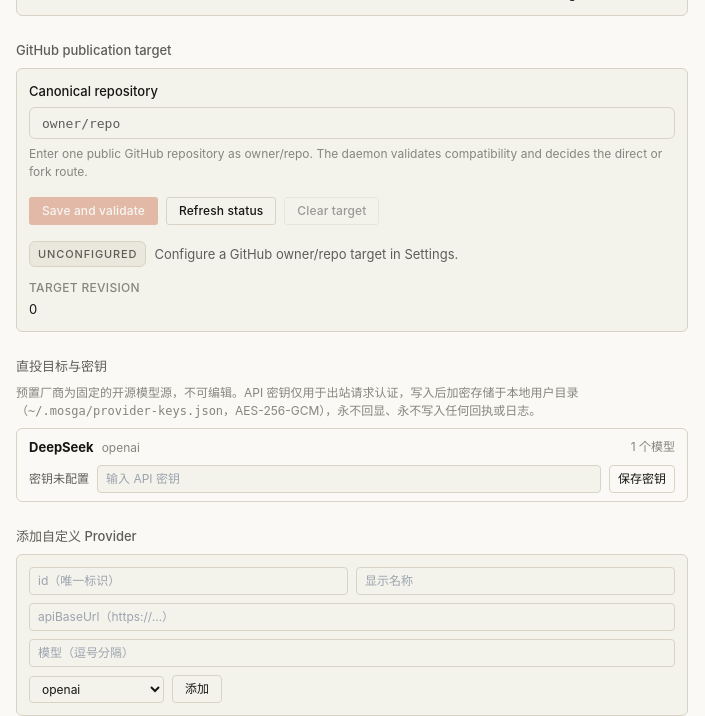
Test: SettingsPage — write-only key entry › sets a key then shows configured status only, never the key value
(page scrolled)
Expected: the text with test id "key-status-deepseek" shows "未配置", [29, 470, 89, 488]
Type "sk-FAKEfakeFAKEfake0123456789abcdef" into the password field with test id "key-input-deepseek" at (349, 479), box [97, 465, 601, 493]
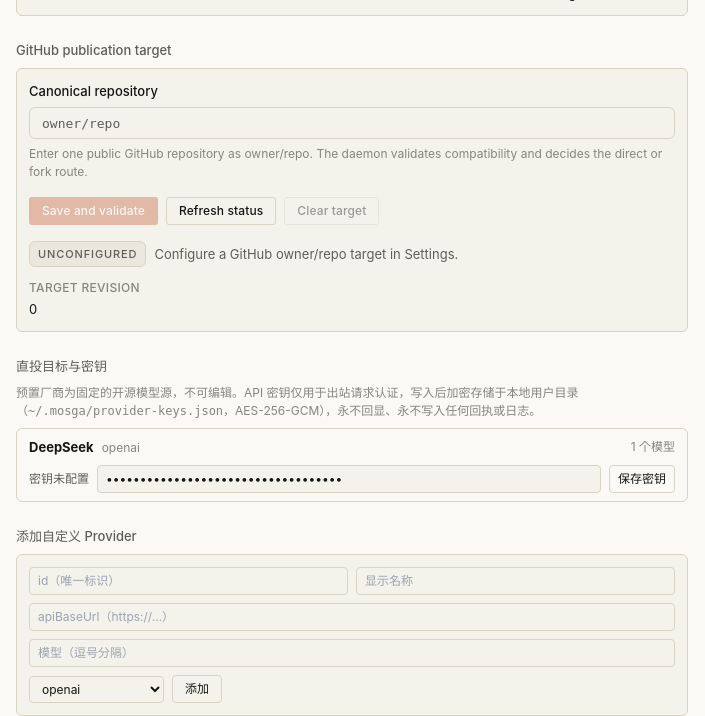
Click the button with test id "key-set-deepseek" at (642, 479), box [609, 465, 675, 493]
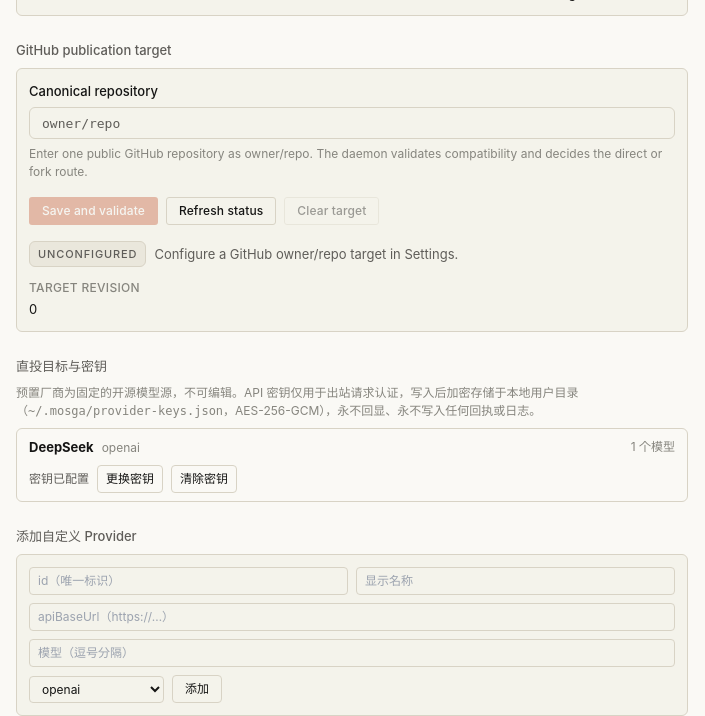
Expected: the button with test id "key-clear-deepseek" is shown, [171, 465, 237, 493]
Expected: the text with test id "key-status-deepseek" shows "已配置", [29, 470, 89, 488]
